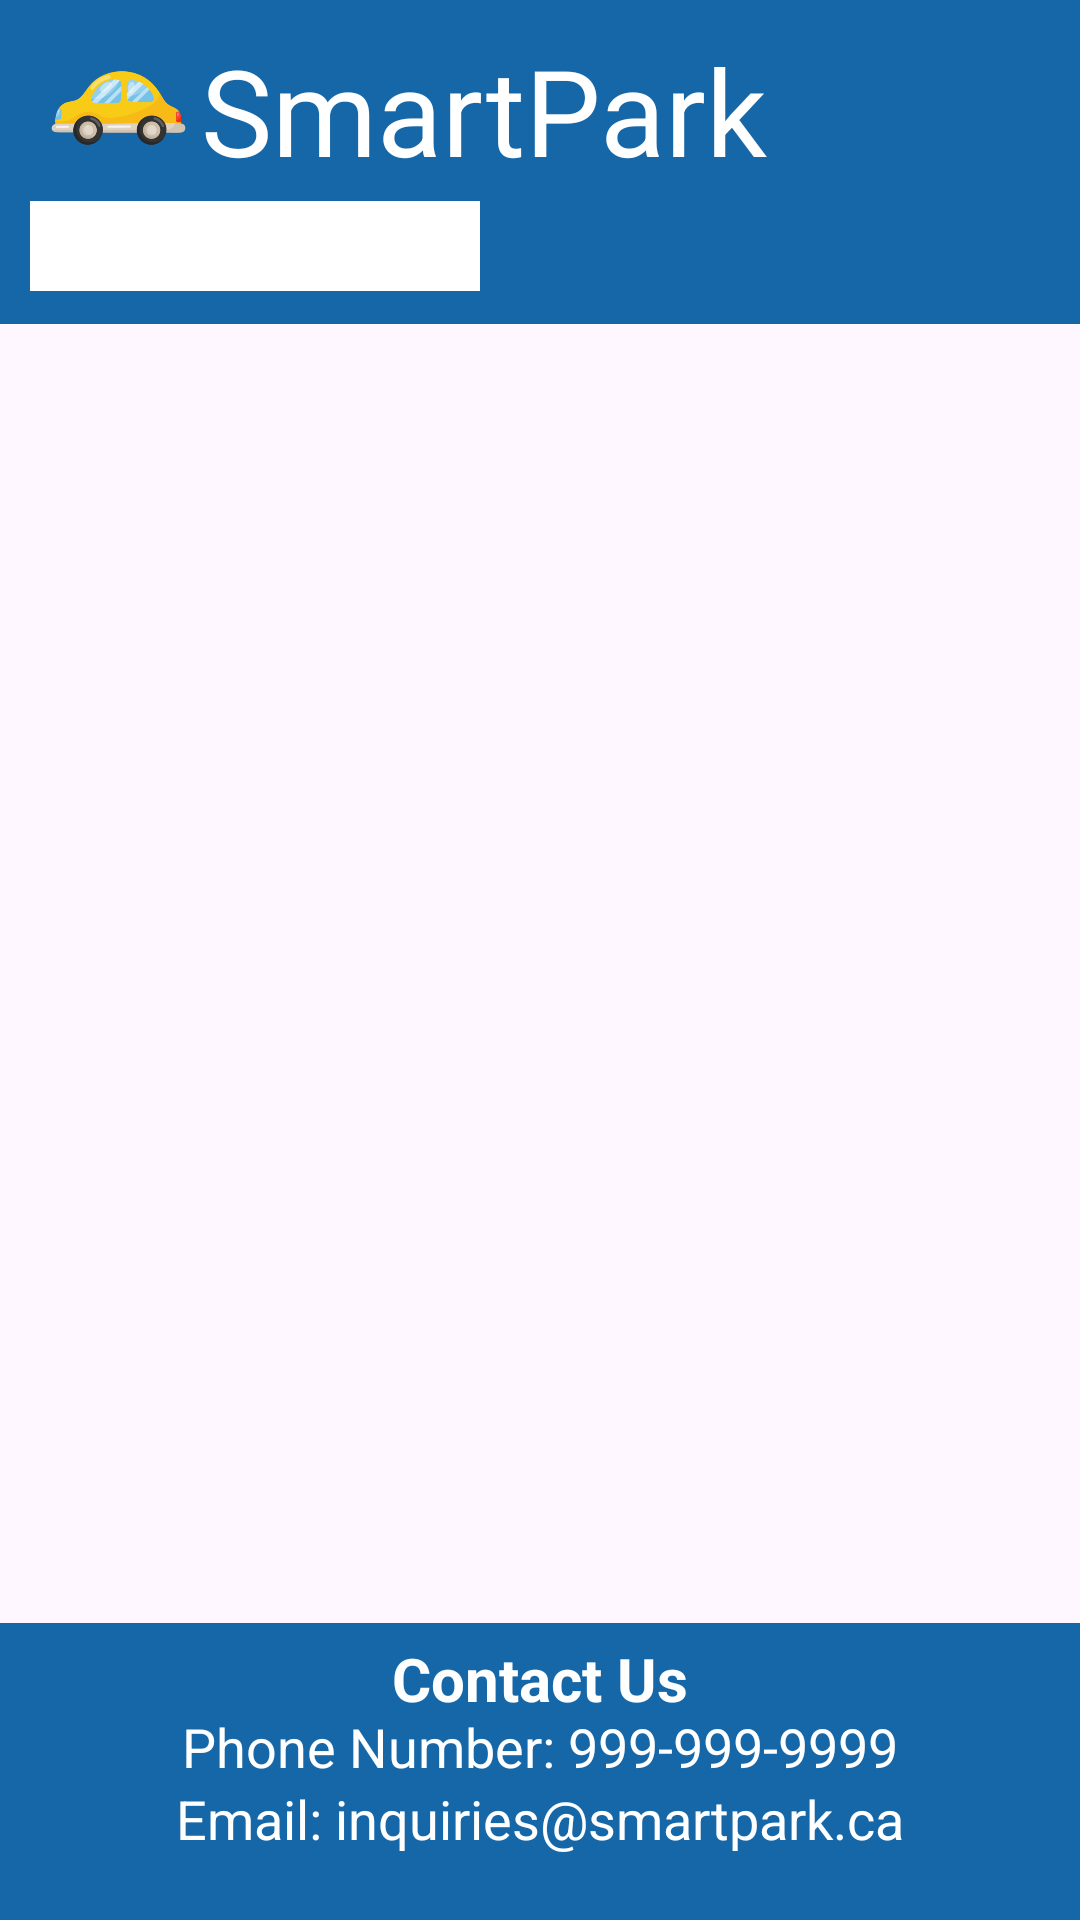

Where icons sit on this 1080×1920 app screen, as rect(x1, y1, x2, y2):
car: rect(51, 71, 186, 145)
